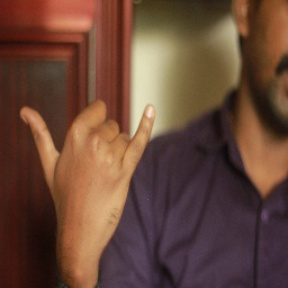J: (19, 85, 157, 225)
